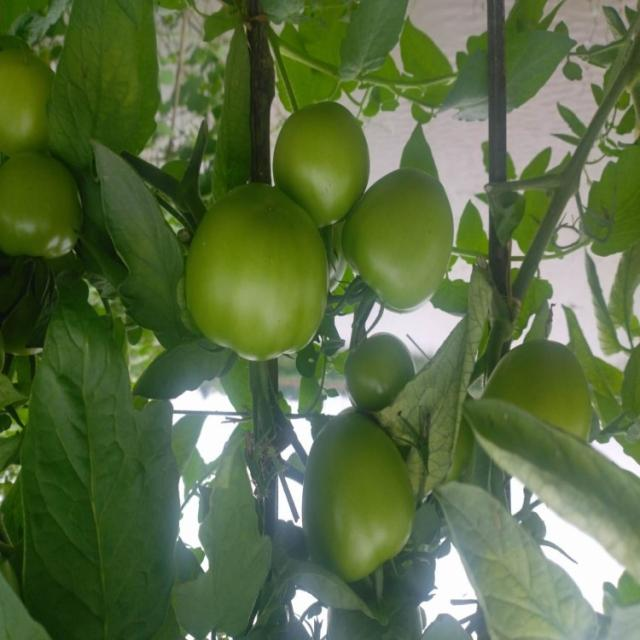tomato: (344, 154, 476, 328), (196, 173, 328, 343), (308, 415, 418, 570), (276, 92, 379, 233), (484, 334, 604, 443), (1, 148, 90, 253), (3, 43, 72, 145), (349, 331, 400, 409)
